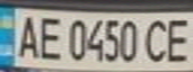0: (63, 16, 87, 62), (118, 17, 142, 63)
4: (84, 16, 106, 63)
5: (103, 16, 124, 63)
A: (12, 11, 42, 60)
C: (142, 16, 172, 64)
E: (160, 15, 193, 64), (33, 12, 66, 61)
